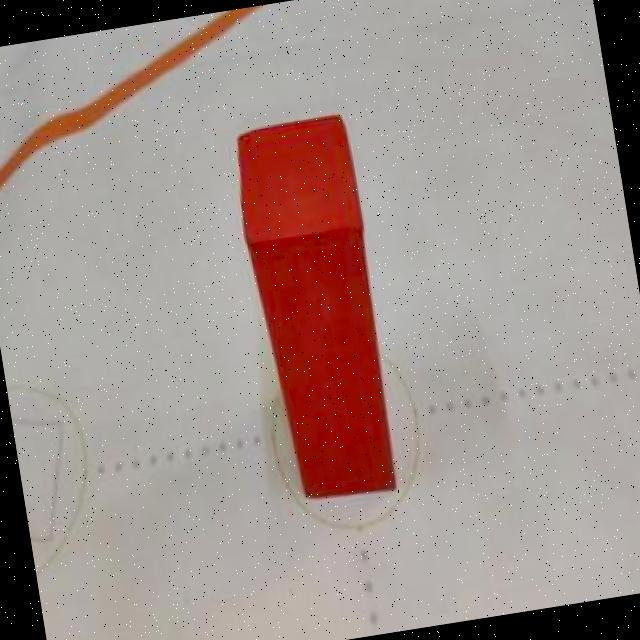redbox: (225, 108, 408, 506)
